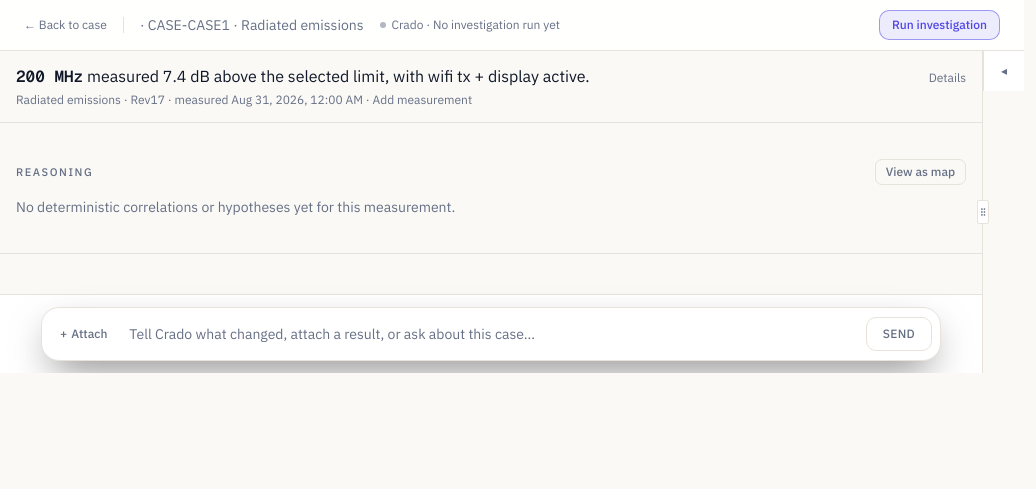
Test case: InvestigationWorkspace — streaming › shows a recoverable error state on run.failed and allows retrying (failed state)
This screenshot has width=1036, height=489.
Click the button "Run investigation".
click(940, 25)  # box [879, 10, 1000, 40]
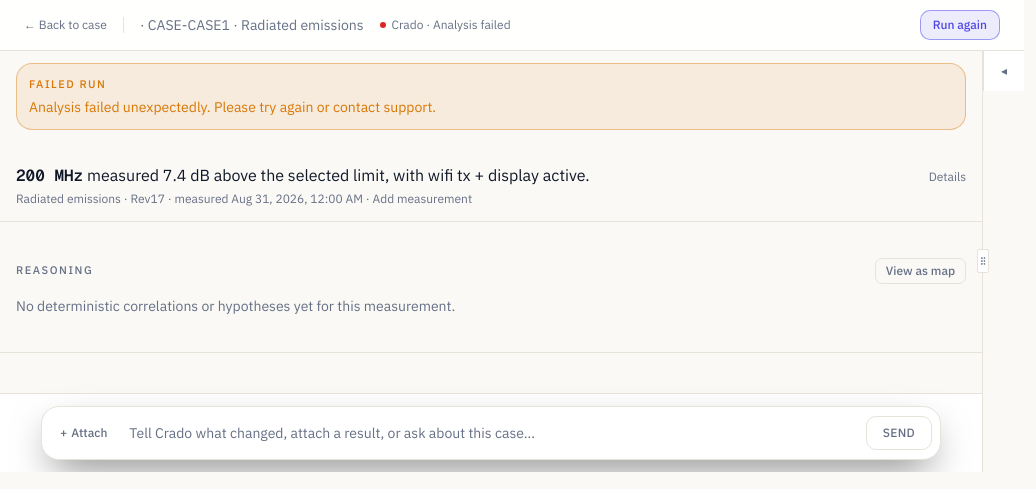
expect the button "Run again" is enabled: met, box [920, 10, 1000, 40]
expect the message "Failed run Analysis failed unexpectedly. Please try again or contact support." is shown: met, box [16, 63, 966, 130]
